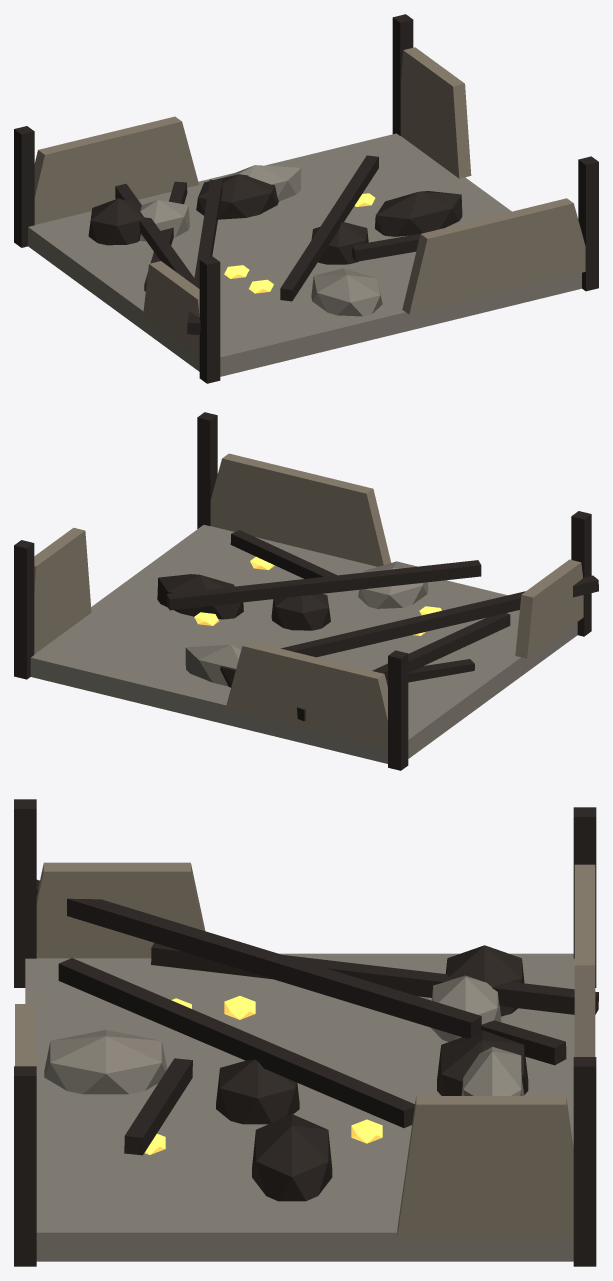
File: Dorf_Schulzenhaus_Ruine.fbx
3 renders of one model, top to bottom at view 1: azimuth 30°, elevation 25°; view 2: azimuth 150°, elevation 25°; view 3: azimuth 270°, elevation 25°, orthographic. The views are drawn at different scales.
Parts seen in each view (by area): view 1: Dorf_Schulzenhaus_Ruine; view 2: Dorf_Schulzenhaus_Ruine; view 3: Dorf_Schulzenhaus_Ruine.
Boxes of the visible parts, x1,y1,x2,y2 form: Dorf_Schulzenhaus_Ruine: (14, 14, 598, 383); Dorf_Schulzenhaus_Ruine: (14, 412, 598, 770); Dorf_Schulzenhaus_Ruine: (14, 799, 598, 1266).
Size of the model in its own units: 7.42 by 2.44 by 6.15.
